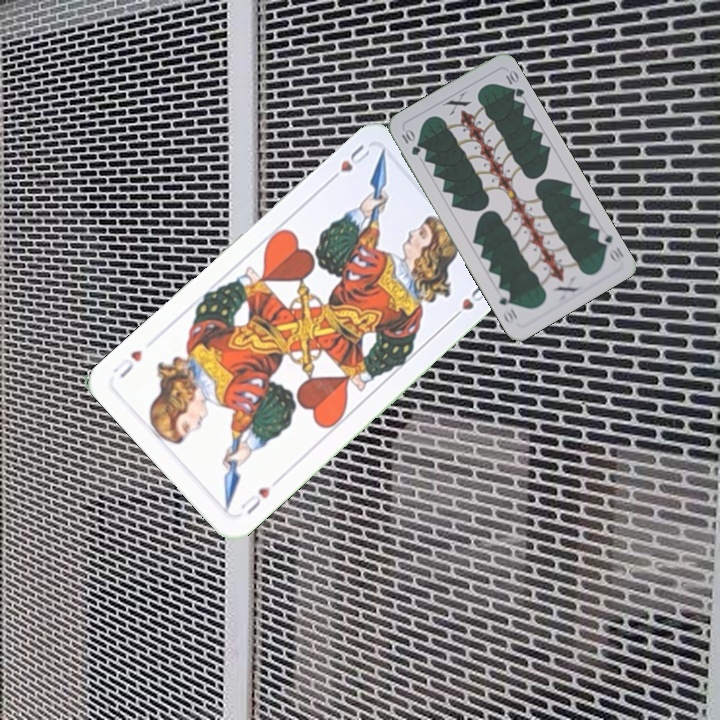G10: (593, 226, 627, 264), (397, 125, 423, 158)
HU: (324, 140, 373, 186), (236, 482, 273, 517)
